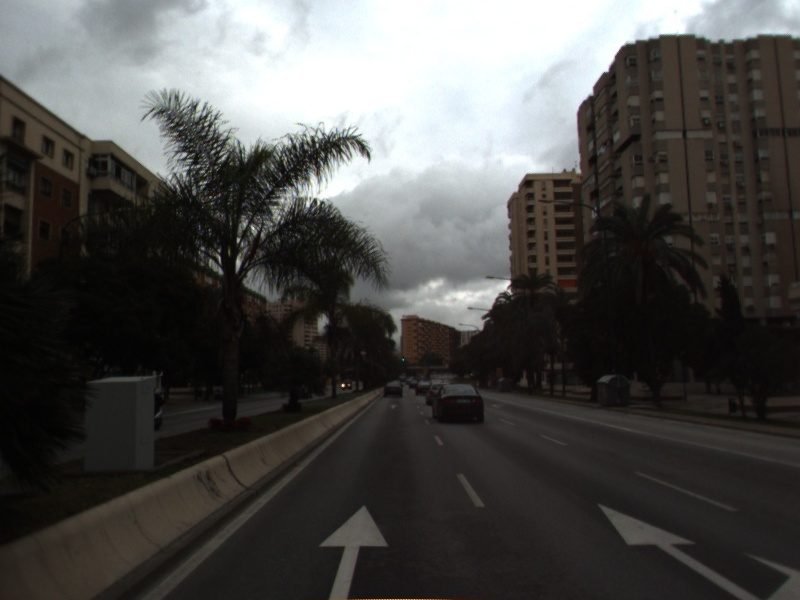STRAIGHT: (594, 500, 800, 599), (315, 501, 393, 600)
